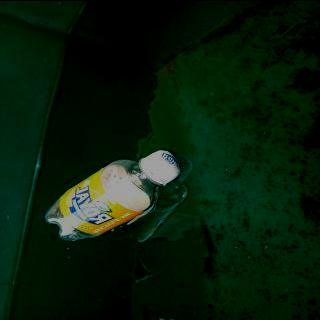bottle: (38, 144, 187, 242)
